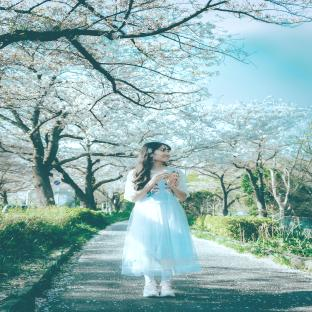Human: (122, 142, 202, 297)
